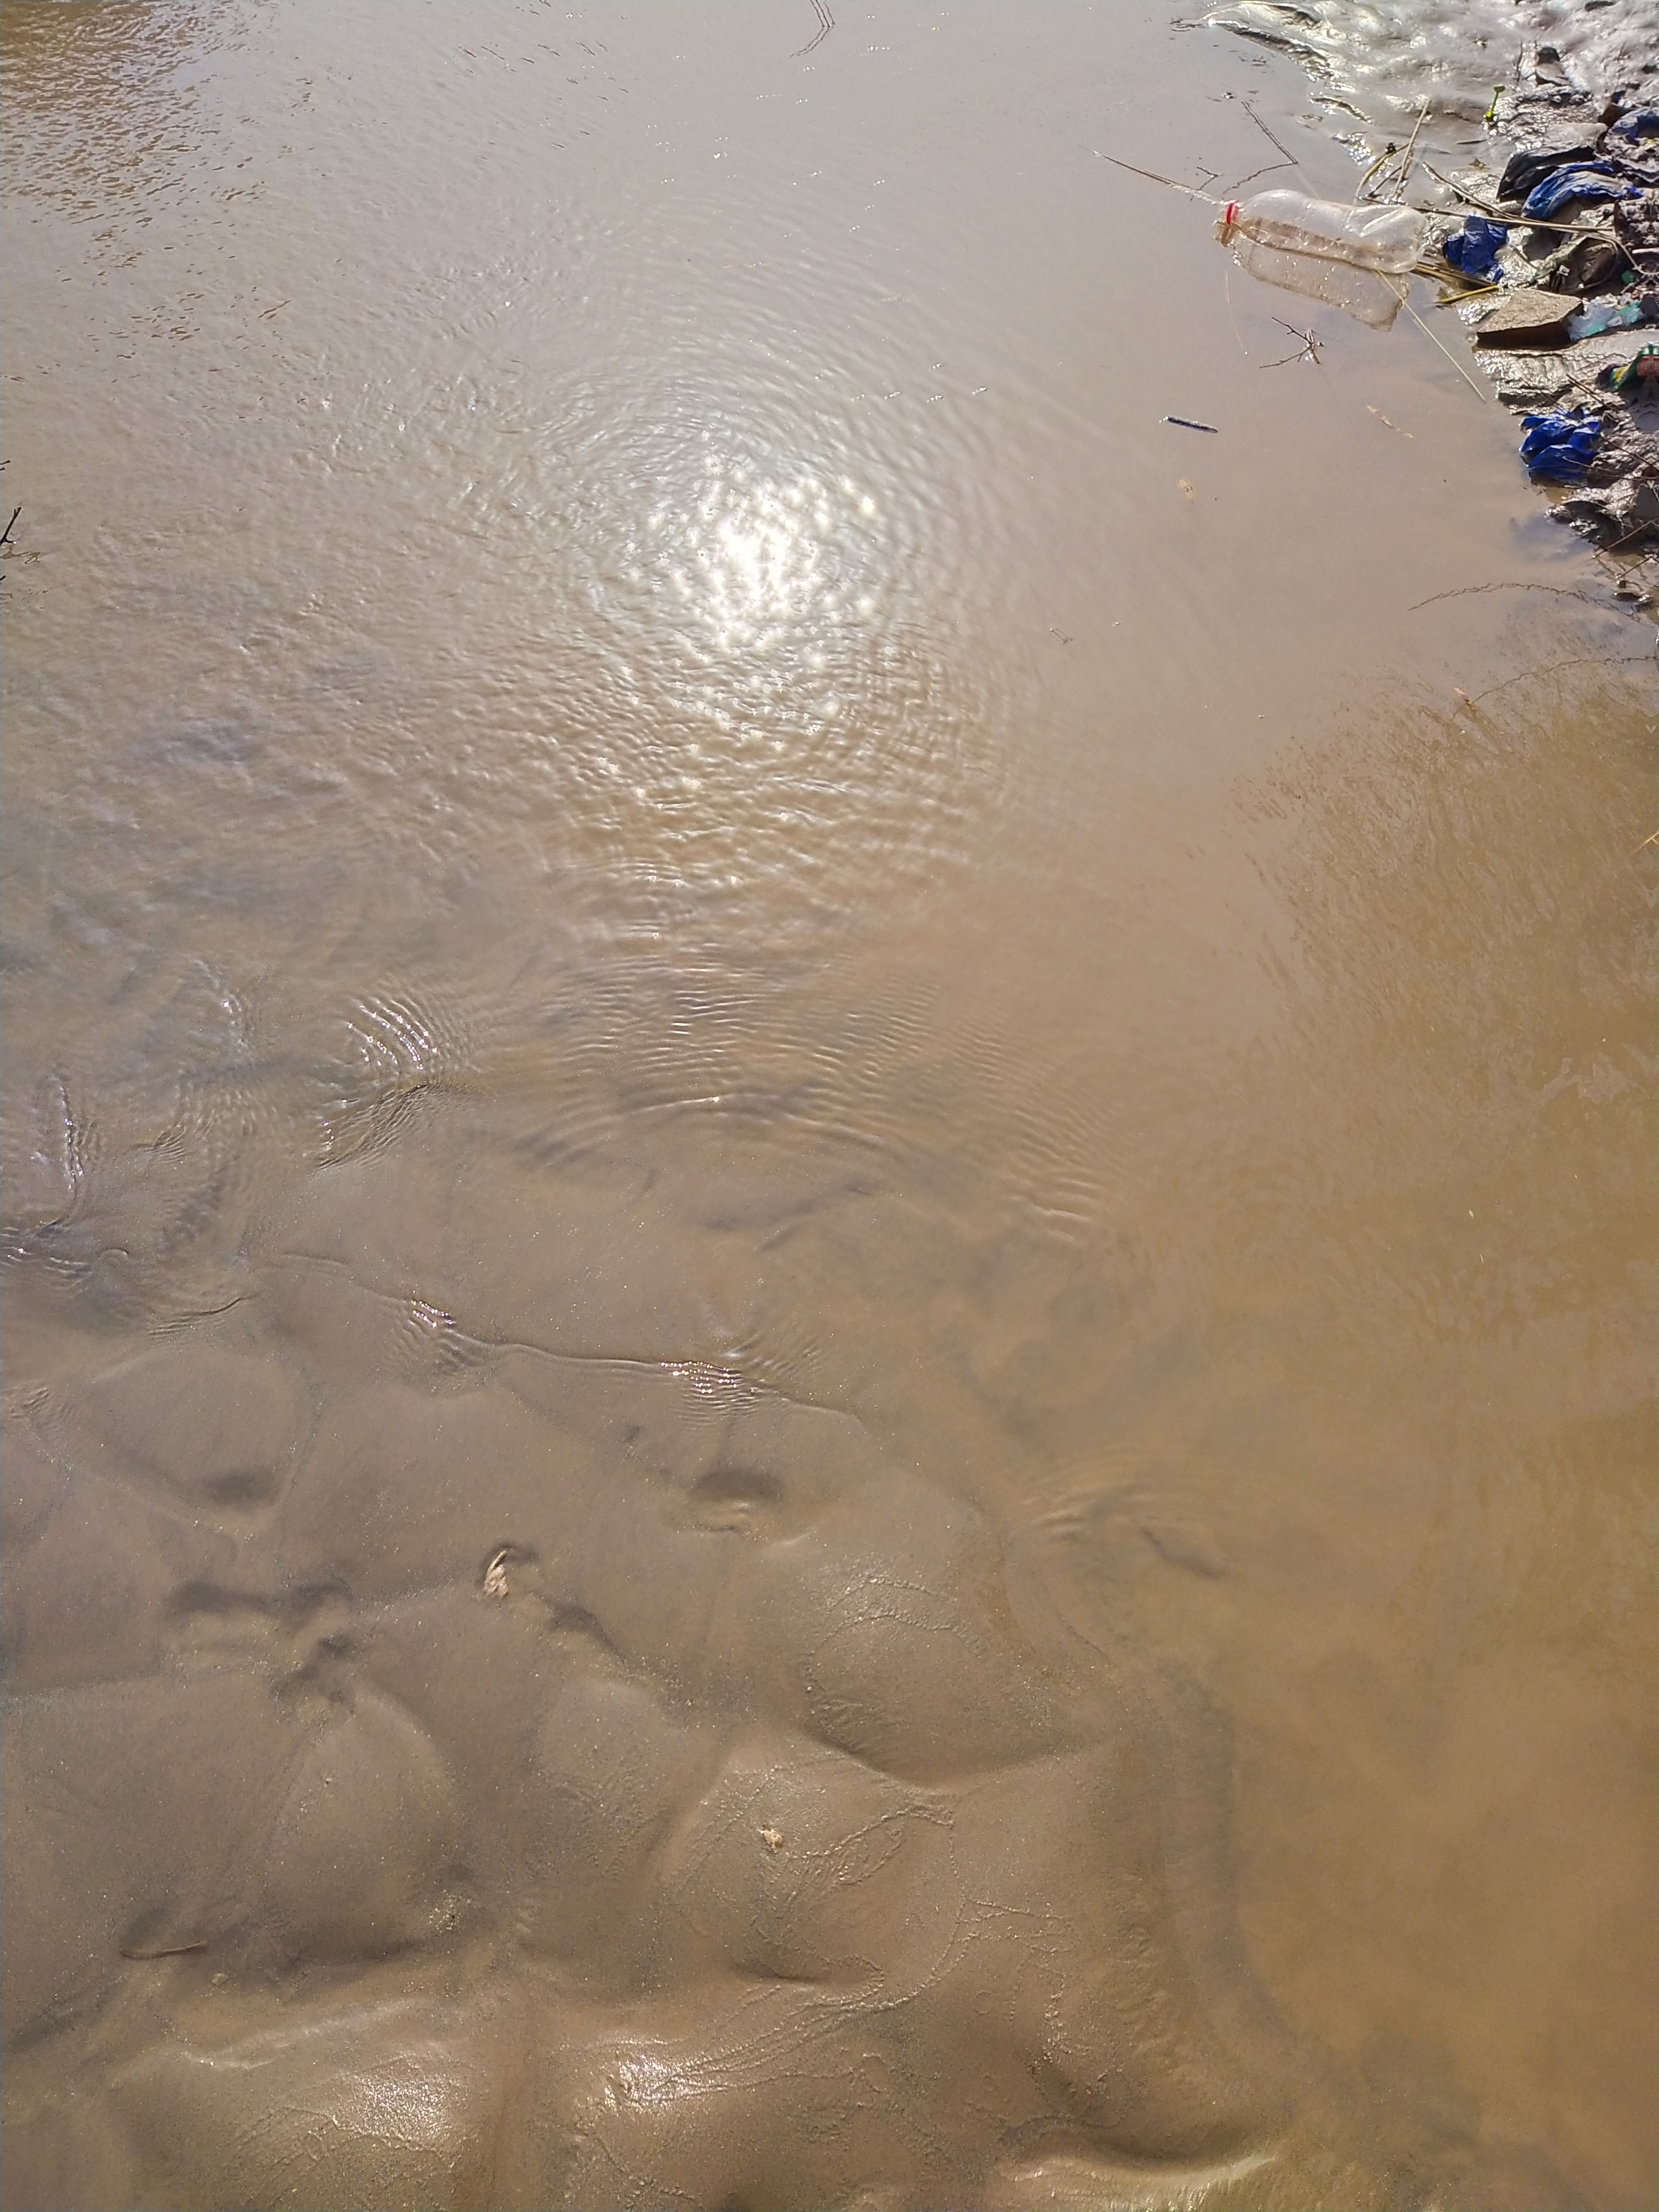Plastic Bottle: (1218, 188, 1429, 273)
